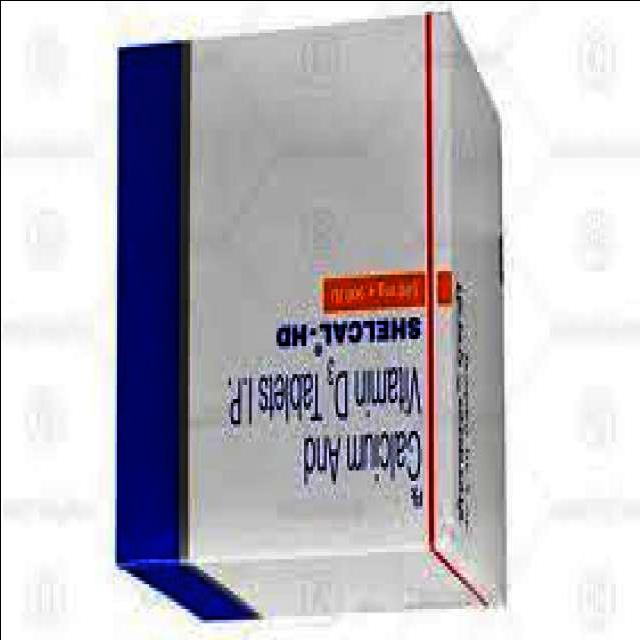authentic: (104, 0, 513, 626)
